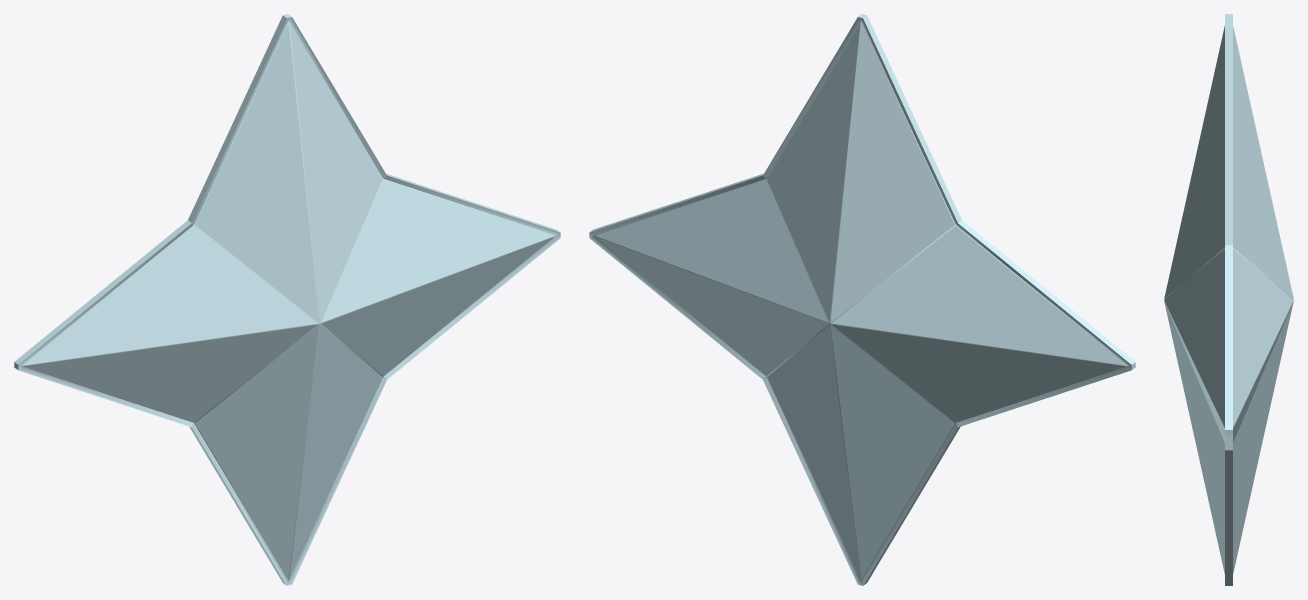
Rendered from Stone.fbx.
The picture shows the model from 3 angles, left to right: view 1: azimuth 30°, elevation 25°; view 2: azimuth 150°, elevation 25°; view 3: azimuth 270°, elevation 25°; orthographic projection.
Parts seen in each view (by area): view 1: Выдавливание_9; view 2: Выдавливание_9; view 3: Выдавливание_9.
Part boxes in pixels (box(x1,y1,x2,y2)): Выдавливание_9: box(14, 14, 560, 585); Выдавливание_9: box(589, 14, 1135, 585); Выдавливание_9: box(1164, 14, 1293, 585).
Size of the model in its own units: 405 by 405 by 83.62.
